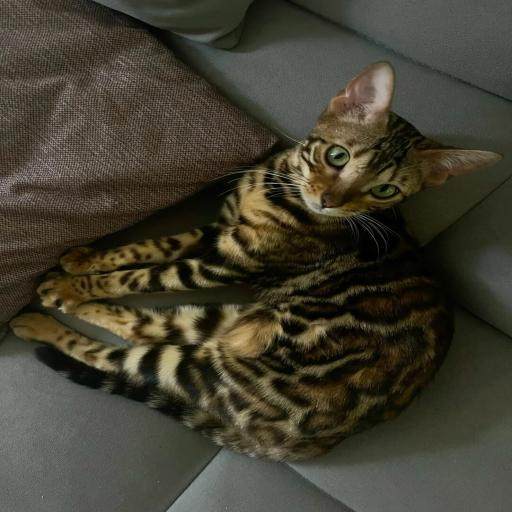cats: (10, 62, 501, 461)
